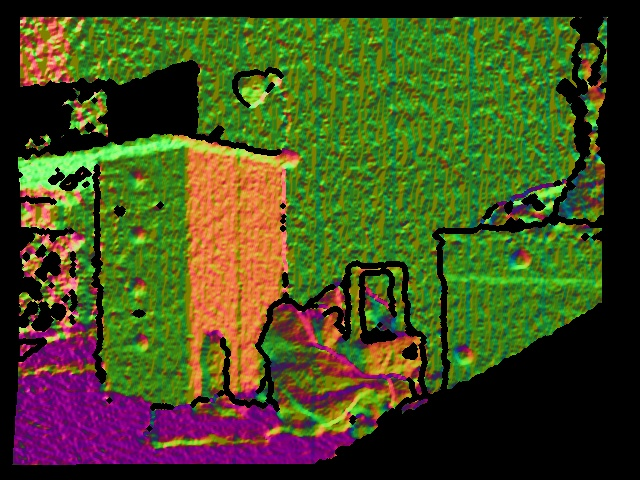station: (336, 262, 426, 381)
